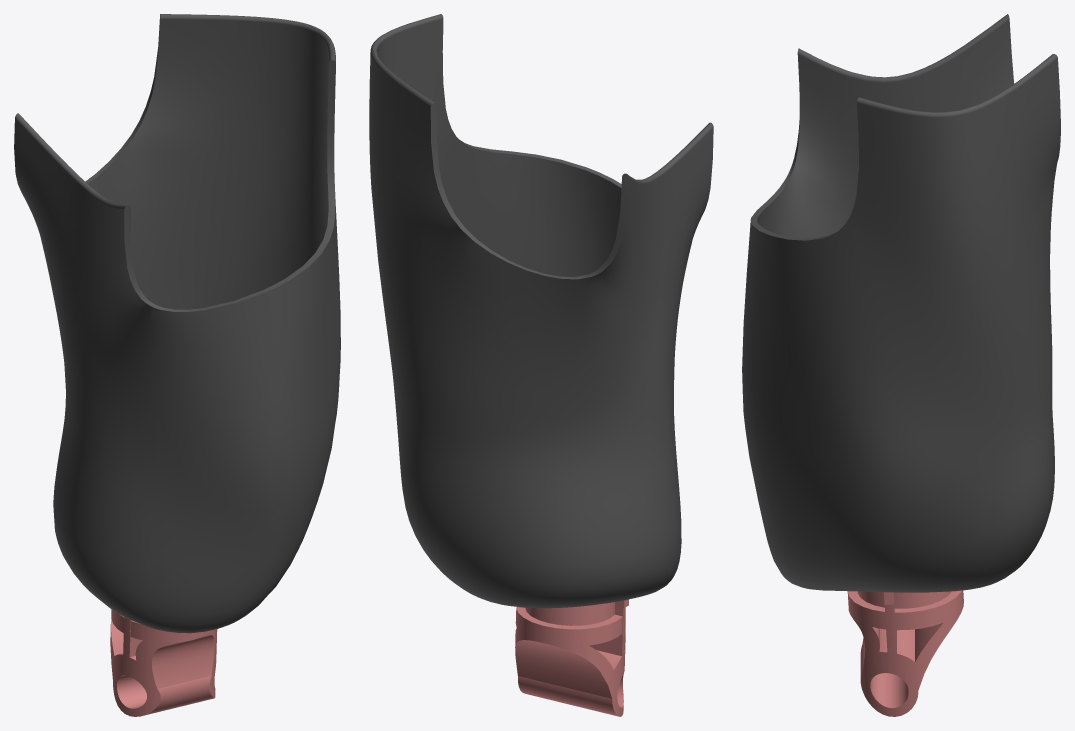
Rendered from 2Socket Pierna.glb.
3 renders of one model, left to right at view 1: azimuth 30°, elevation 25°; view 2: azimuth 150°, elevation 25°; view 3: azimuth 270°, elevation 25°, orthographic. The views are drawn at different scales.
Visible parts, largest first — view 1: Socket Pierna; view 2: Socket Pierna; view 3: Socket Pierna.
Part boxes in pixels (x1,y1,x2,y2): Socket Pierna: (14, 14, 340, 716); Socket Pierna: (369, 14, 713, 716); Socket Pierna: (742, 14, 1060, 716).
Bounding box in the file's own units: 17.95 × 38.54 × 16.52.
